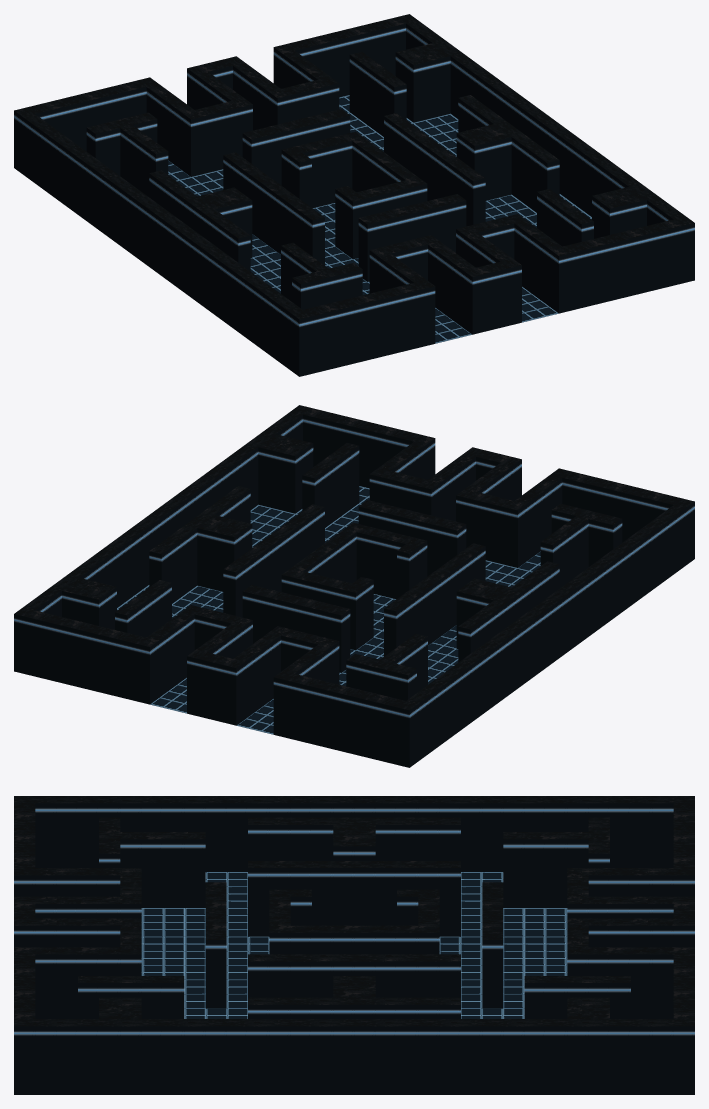
File: EasyLevel.fbx
3 views of the same model, one above another, from view 1: azimuth 30°, elevation 25°; view 2: azimuth 150°, elevation 25°; view 3: azimuth 270°, elevation 25° (orthographic). The views are drawn at different scales.
Visible parts, largest first — view 1: Walls, Floor; view 2: Walls, Floor; view 3: Walls, Floor.
Boxes of the visible parts, x1,y1,x2,y2 form: Walls: (14,14,694,376); Floor: (168,95,591,343); Walls: (14,405,694,767); Floor: (117,486,540,734); Walls: (14,796,694,1094); Floor: (141,872,567,1018).
Size of the model in its own units: 40 by 5.56 by 50.
